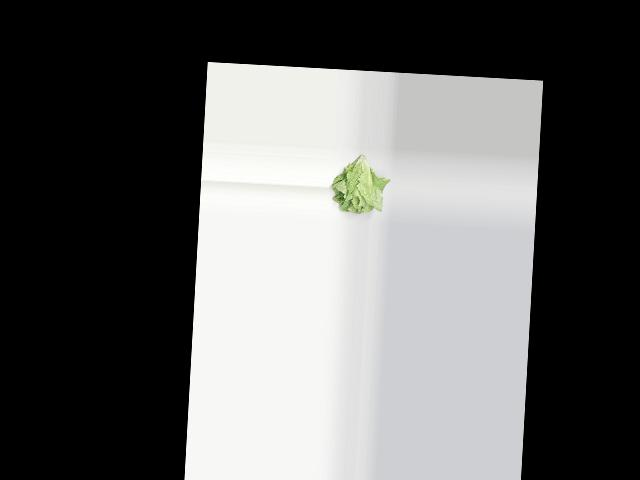lettuce: (330, 150, 385, 218)
